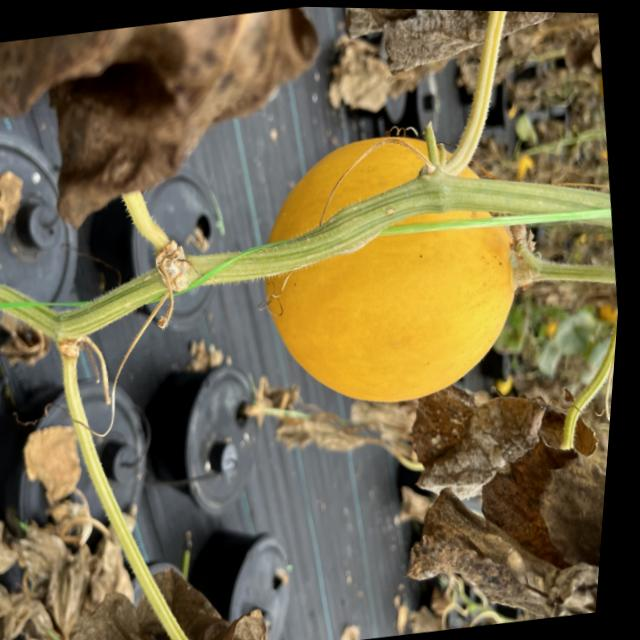bacterial wilt: (398, 458, 607, 637), (402, 372, 561, 500), (340, 8, 559, 66)
